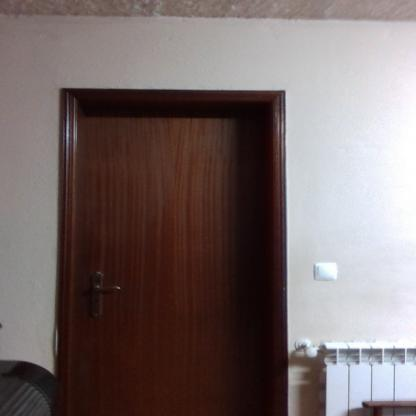door: (77, 106, 272, 416)
lever: (91, 283, 125, 295)
